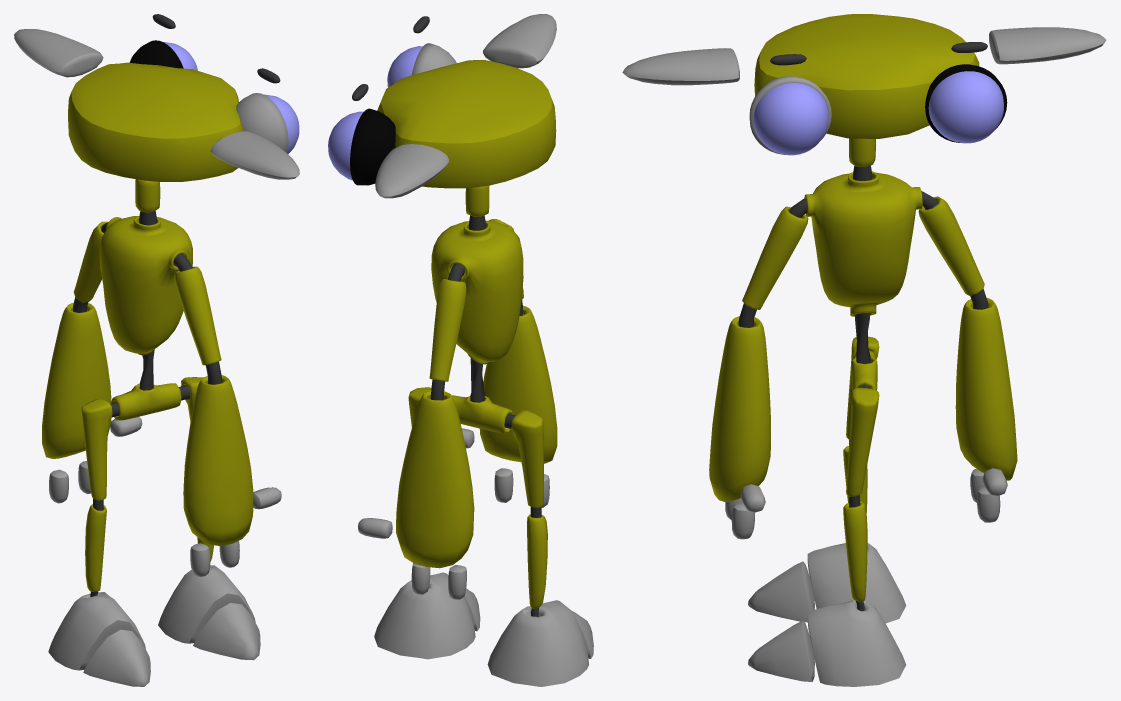
The model's file is die3.obj.
3 renders of one model, left to right at view 1: azimuth 30°, elevation 25°; view 2: azimuth 150°, elevation 25°; view 3: azimuth 270°, elevation 25°, orthographic. The views are drawn at different scales.
Visible parts, largest first — view 1: Mesh polySurface50, Mesh polySurface41, Mesh polySurface37, Mesh polySurface18, Mesh polySurface48, Mesh polySurface26, Mesh polySurface10, Mesh polySurface8, Mesh polySurface24, Mesh polySurface38, Mesh polySurface47, Mesh polySurface28 (+16 smaller); view 2: Mesh polySurface50, Mesh polySurface18, Mesh polySurface41, Mesh polySurface26, Mesh polySurface37, Mesh polySurface10, Mesh polySurface48, Mesh polySurface44, Mesh polySurface4, Mesh polySurface51, Mesh polySurface28, Mesh polySurface47 (+12 smaller); view 3: Mesh polySurface41, Mesh polySurface50, Mesh polySurface37, Mesh polySurface18, Mesh polySurface10, Mesh polySurface48, Mesh polySurface22, Mesh polySurface6, Mesh polySurface26, Mesh polySurface47, Mesh polySurface44, Mesh polySurface38 (+9 smaller).
Part boxes in pixels (box(x1,y1,x2,y2)): Mesh polySurface50: box(71, 62, 240, 138); Mesh polySurface41: box(99, 216, 192, 355); Mesh polySurface37: box(183, 375, 253, 546); Mesh polySurface18: box(42, 302, 111, 458); Mesh polySurface48: box(68, 90, 243, 181); Mesh polySurface26: box(48, 592, 145, 670); Mesh polySurface10: box(158, 565, 255, 643); Mesh polySurface8: box(193, 603, 260, 660); Mesh polySurface24: box(83, 629, 150, 686); Mesh polySurface38: box(174, 266, 221, 365); Mesh polySurface47: box(210, 131, 299, 177); Mesh polySurface28: box(81, 399, 112, 500); Mesh polySurface50: box(380, 60, 551, 143); Mesh polySurface18: box(396, 391, 474, 568); Mesh polySurface41: box(431, 219, 523, 364); Mesh polySurface26: box(487, 600, 588, 686); Mesh polySurface37: box(479, 305, 557, 463); Mesh polySurface10: box(374, 572, 475, 659); Mesh polySurface48: box(377, 97, 556, 188); Mesh polySurface44: box(375, 144, 449, 196); Mesh polySurface4: box(350, 108, 395, 185); Mesh polySurface51: box(429, 279, 466, 381); Mesh polySurface28: box(511, 410, 543, 507); Mesh polySurface47: box(483, 14, 556, 61); Mesh polySurface41: box(804, 171, 922, 316); Mesh polySurface50: box(759, 14, 974, 90); Mesh polySurface37: box(709, 316, 770, 502); Mesh polySurface18: box(955, 298, 1017, 480); Mesh polySurface10: box(807, 599, 906, 686); Mesh polySurface48: box(754, 52, 979, 138); Mesh polySurface22: box(753, 83, 828, 155); Mesh polySurface6: box(928, 71, 1003, 143); Mesh polySurface26: box(807, 543, 906, 623); Mesh polySurface47: box(622, 48, 738, 80); Mesh polySurface44: box(992, 27, 1106, 60); Mesh polySurface38: box(742, 206, 808, 309).
Bounding box in the file's own units: 5.51 × 14.23 × 9.92.
